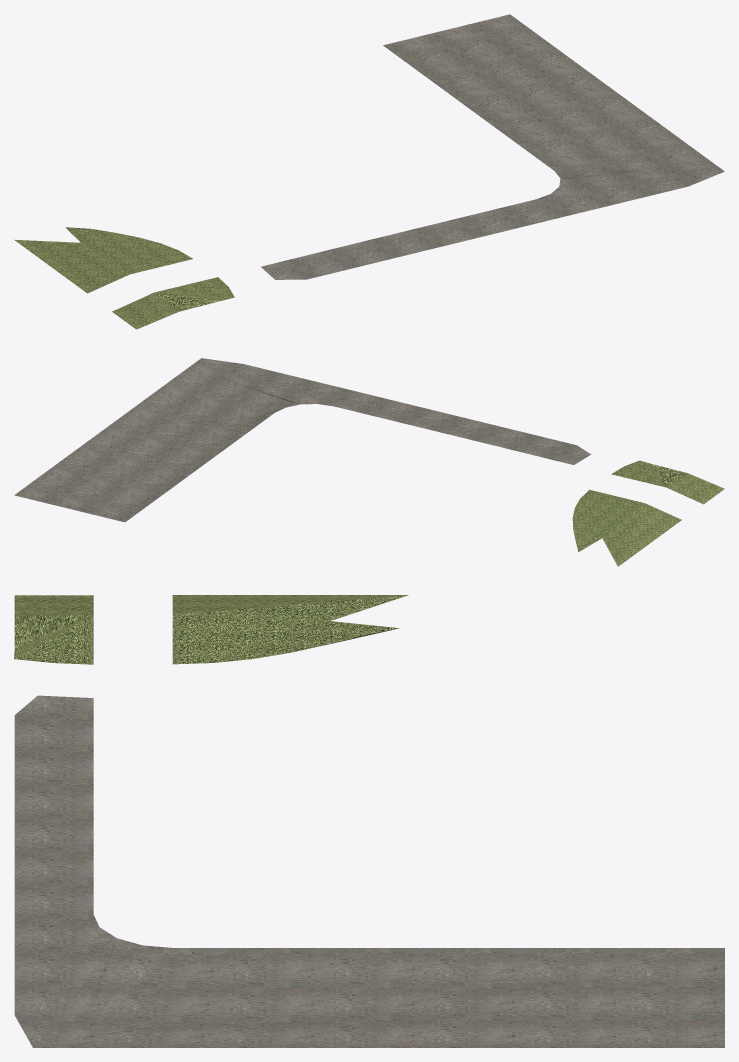
File: lodsairportland11.obj
The picture shows the model from 3 angles, top to bottom: view 1: azimuth 30°, elevation 25°; view 2: azimuth 150°, elevation 25°; view 3: azimuth 270°, elevation 25°; orthographic projection. The views are drawn at different scales.
Parts seen in each view (by area): view 1: lodSairportland11; view 2: lodSairportland11; view 3: lodSairportland11.
Boxes of the visible parts, x1,y1,x2,y2 form: lodSairportland11: (14, 14, 724, 329); lodSairportland11: (14, 358, 724, 566); lodSairportland11: (14, 595, 724, 1047).
Bounding box in the file's own units: 280 × 4.03 × 180.
2 materials, 2 textured.
